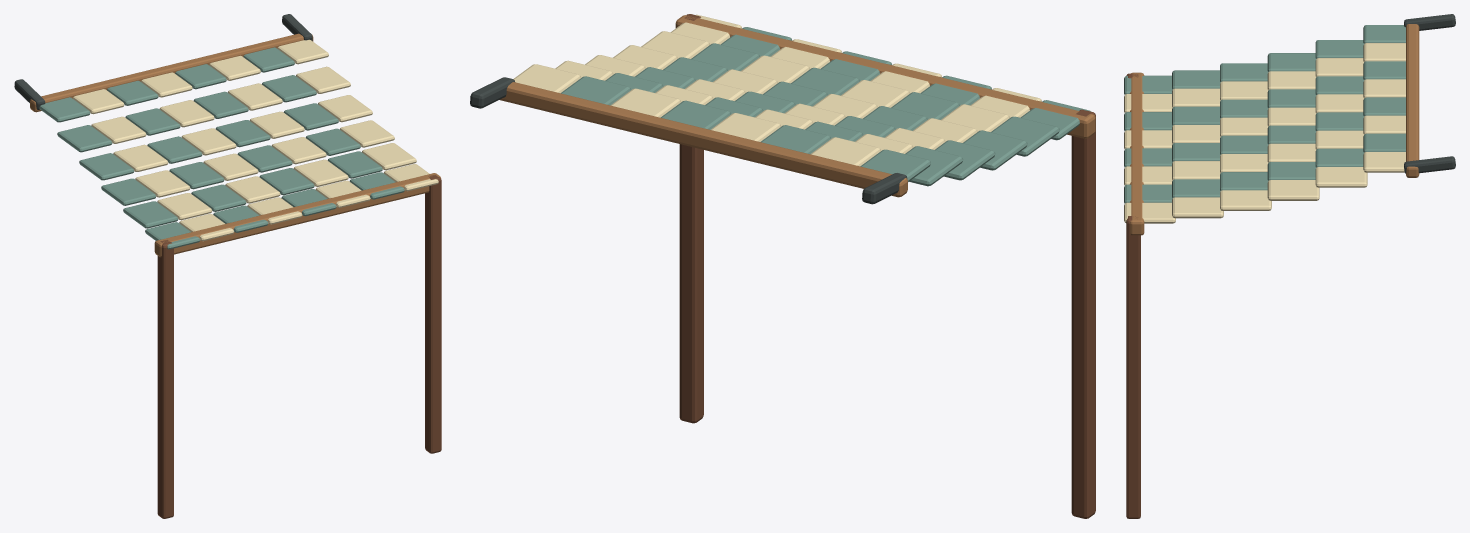
The model's file is attachment_market_awning__attachments.glb.
The picture shows the model from 3 angles, left to right: view 1: azimuth 30°, elevation 25°; view 2: azimuth 150°, elevation 25°; view 3: azimuth 270°, elevation 25°; orthographic projection. The views are drawn at different scales.
Visible parts, largest first — view 1: attachment_market_awning__attachments__mesh_00; view 2: attachment_market_awning__attachments__mesh_00; view 3: attachment_market_awning__attachments__mesh_00.
Boxes of the visible parts, x1,y1,x2,y2 form: attachment_market_awning__attachments__mesh_00: [14, 14, 441, 518]; attachment_market_awning__attachments__mesh_00: [470, 14, 1095, 518]; attachment_market_awning__attachments__mesh_00: [1124, 14, 1455, 518].
Bounding box in the file's own units: 2.15 × 2.4 × 2.01.
